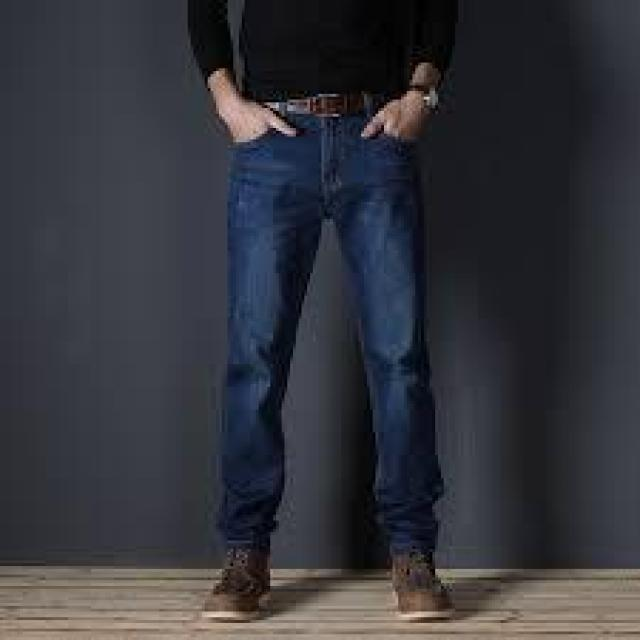pants: (215, 108, 448, 558)
